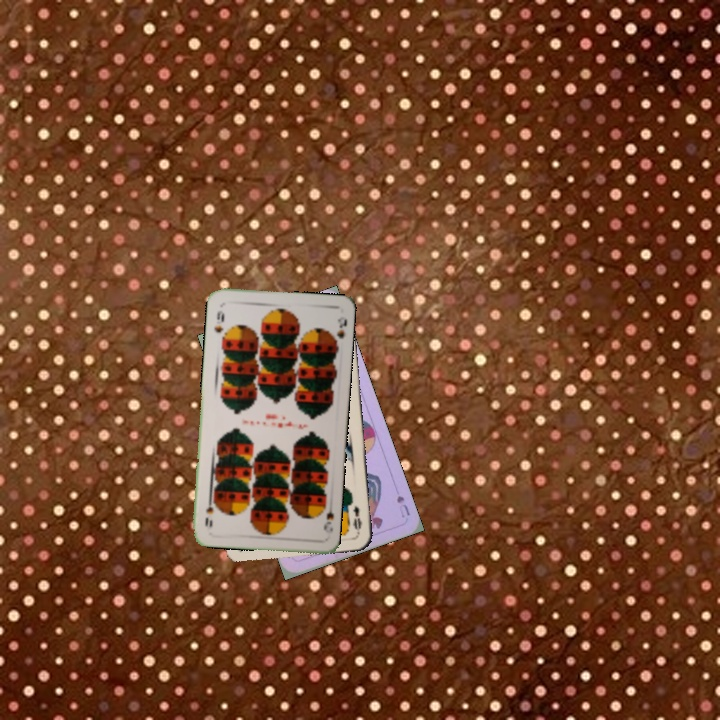EO: (348, 502, 364, 536)
S9: (317, 498, 336, 534), (210, 307, 227, 335)
SU: (392, 491, 413, 521)
